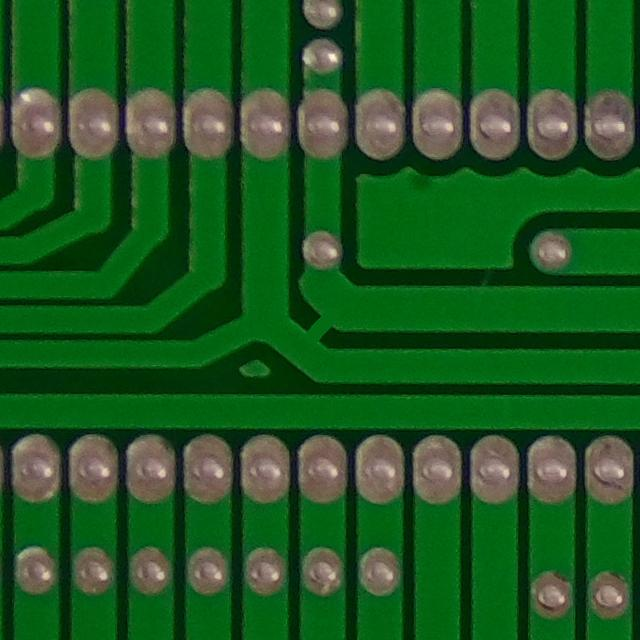short: (270, 269, 370, 371)
